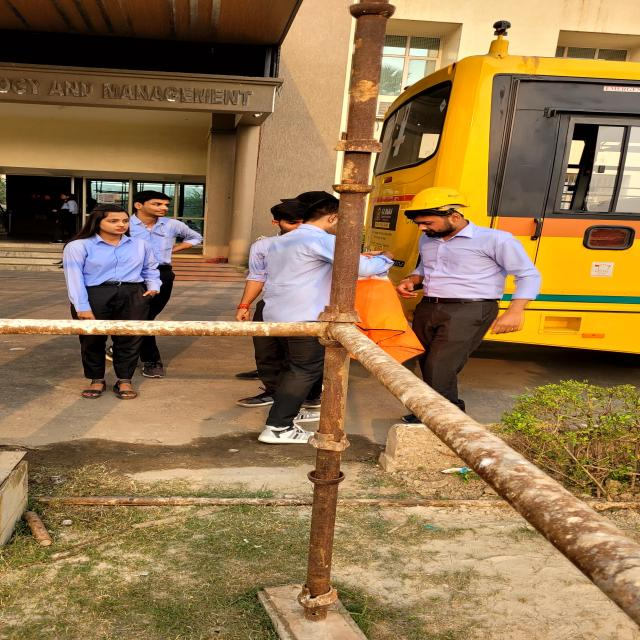no jacket: (399, 185, 545, 426)
unsafe: (252, 191, 387, 447), (55, 204, 151, 400), (122, 191, 208, 389), (53, 192, 78, 243)
